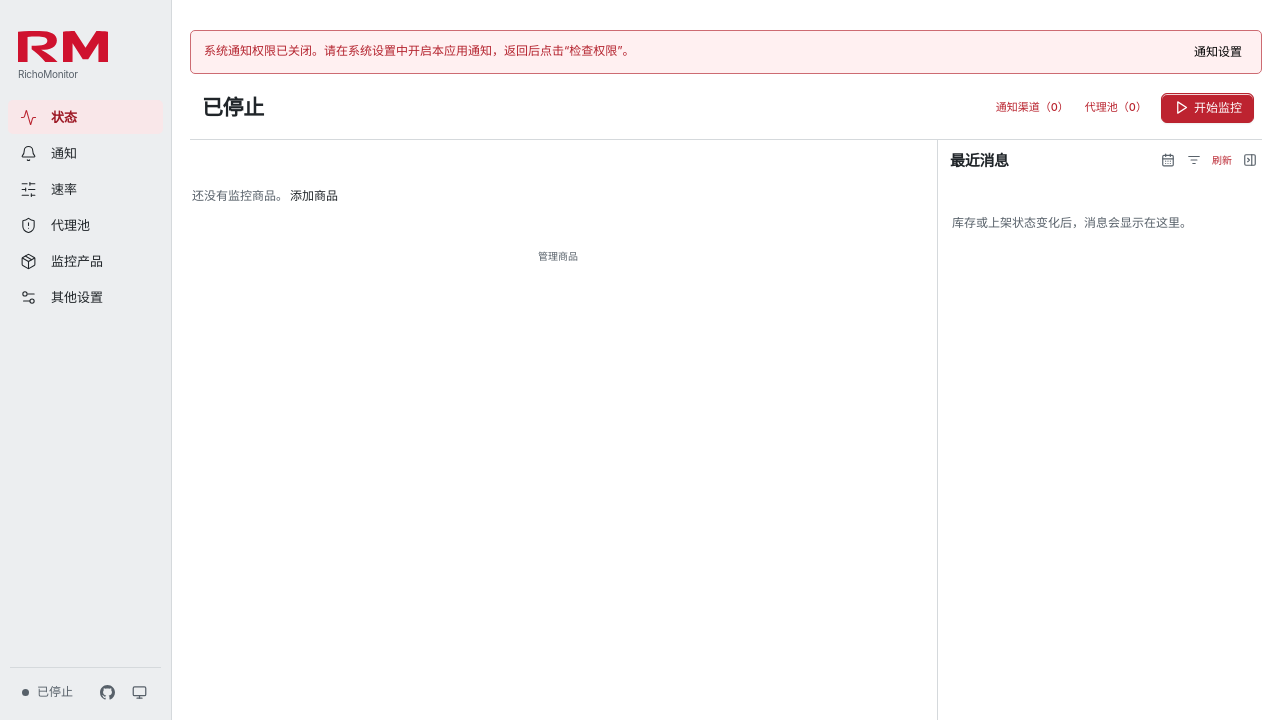
Test: 桌面主流程 › 撤销系统通知权限显示持续提示，检查后恢复授权状态
Expected: the button "开始监控" is shown, [1161,92,1254,122]
Expected: the message shows "系统通知权限已关闭", [204,43,635,58]
Step 1. Click the button "通知" → (86, 153), box [8,136,163,170]
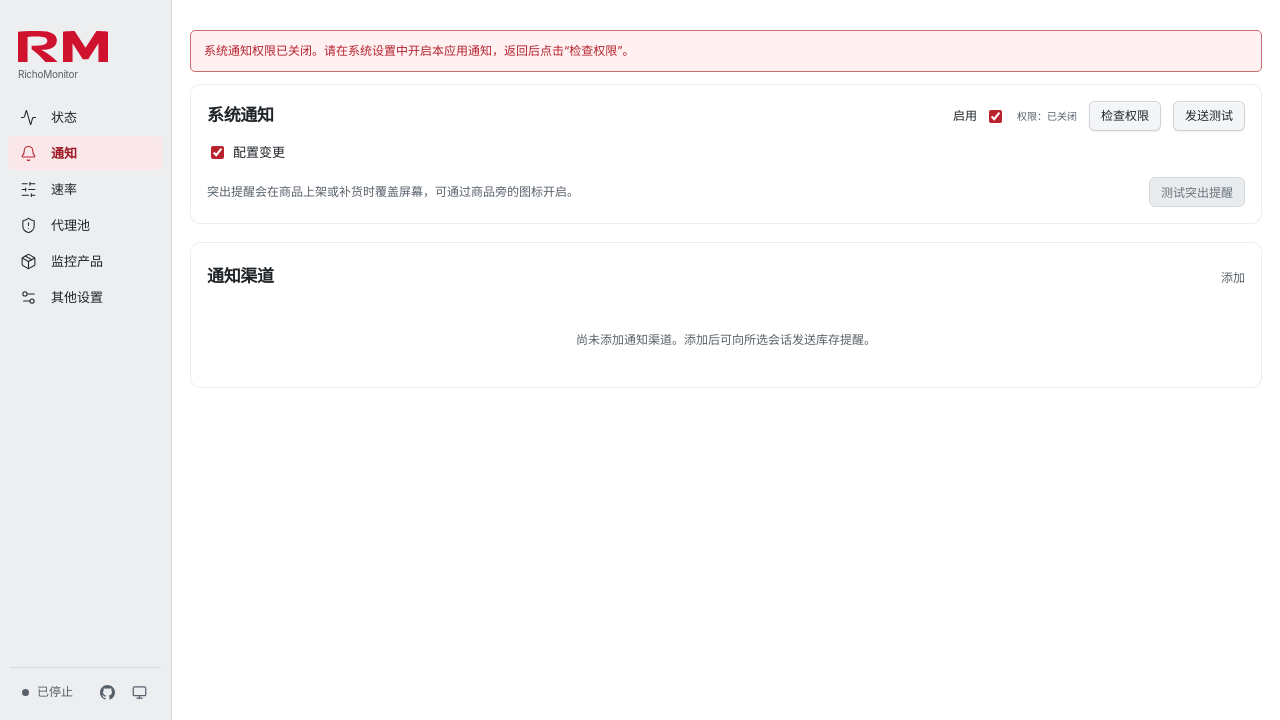
Step 2. Click the button "检查权限" → (1125, 116), box [1089,101,1161,131]
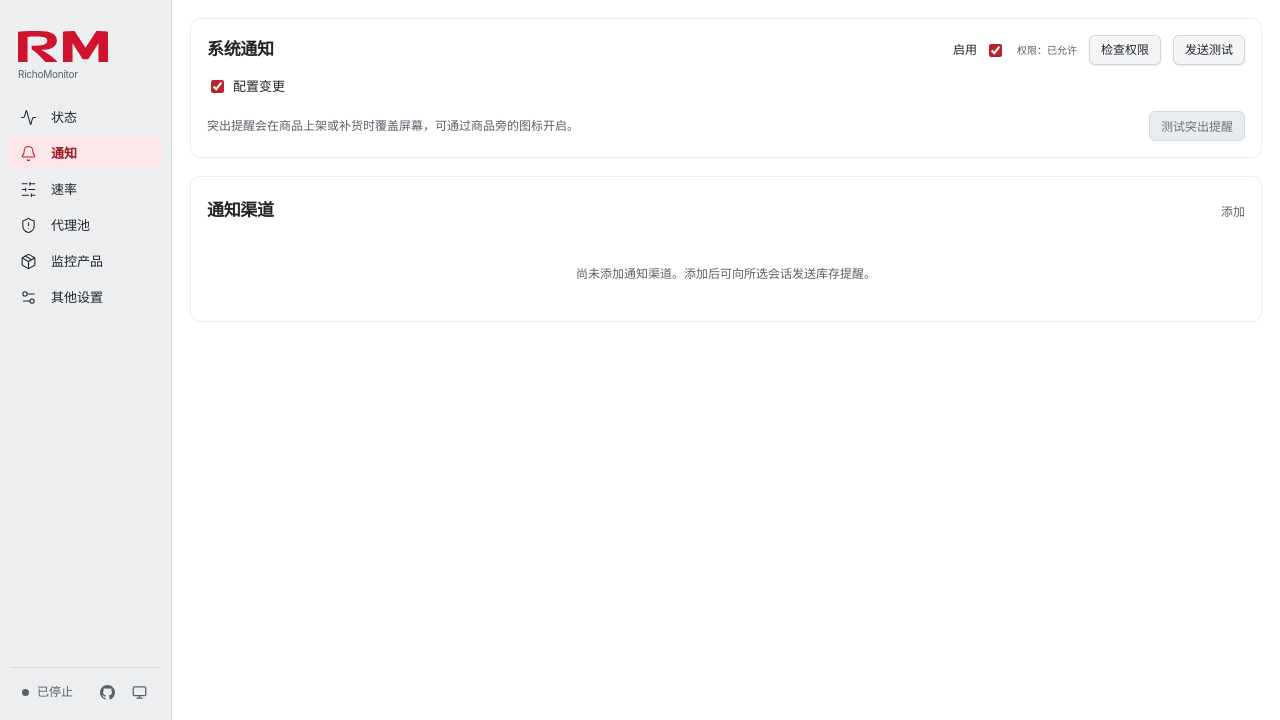
Now the text "权限：已允许" is shown, box [1017,43,1077,57]
Now the text "系统通知权限已关闭" is gone
